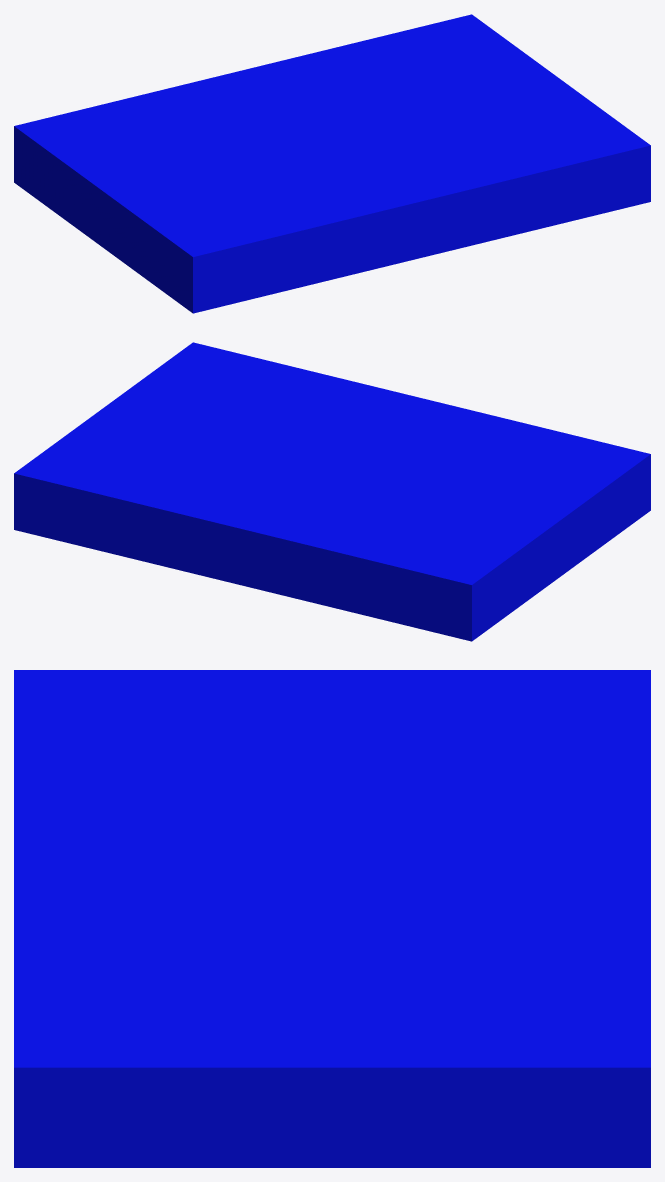
The model's file is Her_fileboxlid_ZW.fbx.
3 views of the same model, one above another, from view 1: azimuth 30°, elevation 25°; view 2: azimuth 150°, elevation 25°; view 3: azimuth 270°, elevation 25° (orthographic). The views are drawn at different scales.
Visible parts, largest first — view 1: Box002; view 2: Box002; view 3: Box002.
Boxes of the visible parts, left/top/right/bottom form: Box002: left=14, top=14, right=650, bottom=313; Box002: left=14, top=342, right=650, bottom=641; Box002: left=14, top=670, right=650, bottom=1167.
Bounding box in the file's own units: 31 × 3.65 × 21.
